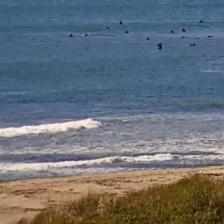surfer: (158, 43, 163, 50), (208, 34, 214, 39), (181, 28, 187, 33), (181, 35, 187, 40), (118, 20, 124, 25), (68, 33, 74, 38), (190, 42, 197, 46), (124, 30, 129, 35), (198, 19, 204, 23), (83, 33, 89, 37), (146, 36, 150, 41), (196, 36, 200, 40), (170, 30, 174, 34), (106, 26, 110, 30)
